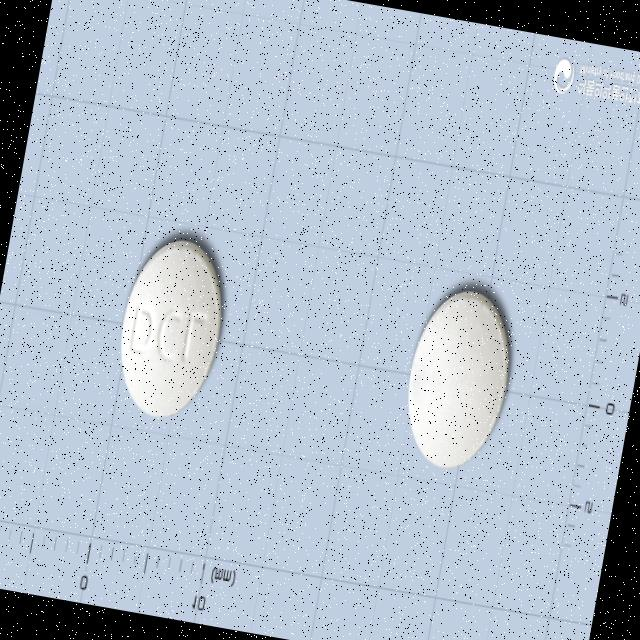Dongkoo Levofloxacin Hydrate Tab: (106, 230, 236, 428), (393, 282, 522, 478)
